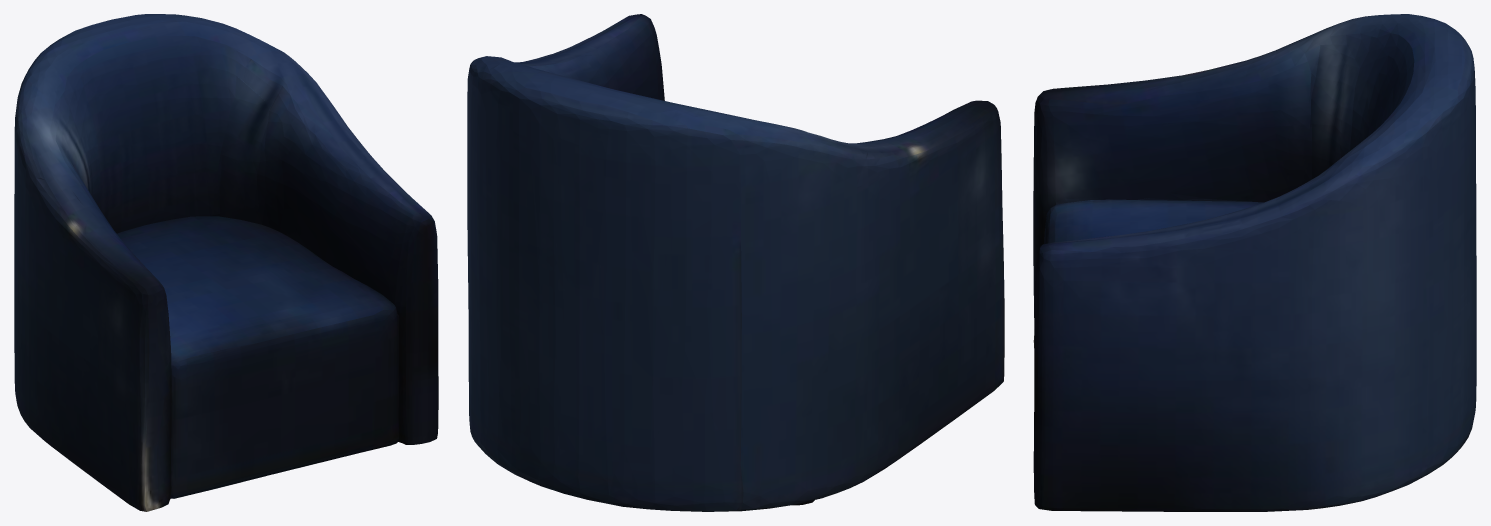
File: armchair-teal.glb
The picture shows the model from 3 angles, left to right: view 1: azimuth 30°, elevation 25°; view 2: azimuth 150°, elevation 25°; view 3: azimuth 270°, elevation 25°; orthographic projection. The views are drawn at different scales.
Visible parts, largest first — view 1: geometry_0; view 2: geometry_0; view 3: geometry_0.
Part boxes in pixels (bbox=[...]): geometry_0: bbox=[14, 14, 438, 511]; geometry_0: bbox=[467, 14, 1004, 511]; geometry_0: bbox=[1033, 14, 1476, 511].
Bounding box in the file's own units: 0.4569 × 0.4715 × 0.4921.
Materials: 1 (1 with a texture image).
